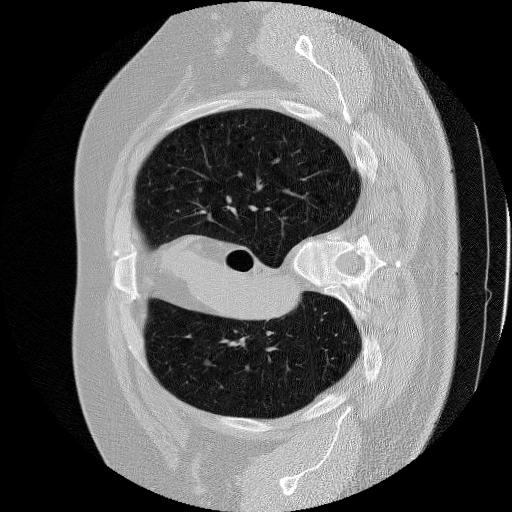nodule: (201, 355, 212, 366)
